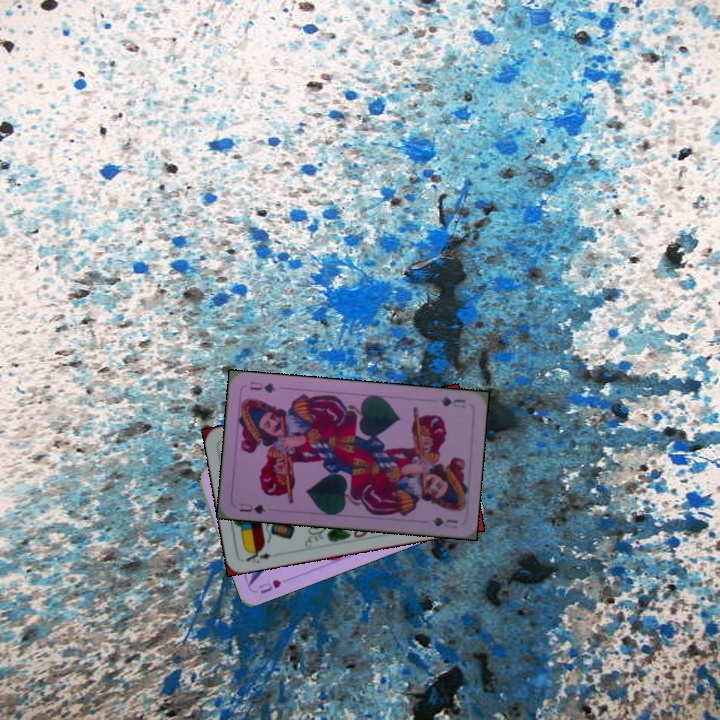EA: (241, 545, 274, 566)
GU: (436, 393, 468, 411), (236, 499, 268, 516)
HU: (254, 575, 284, 596)
